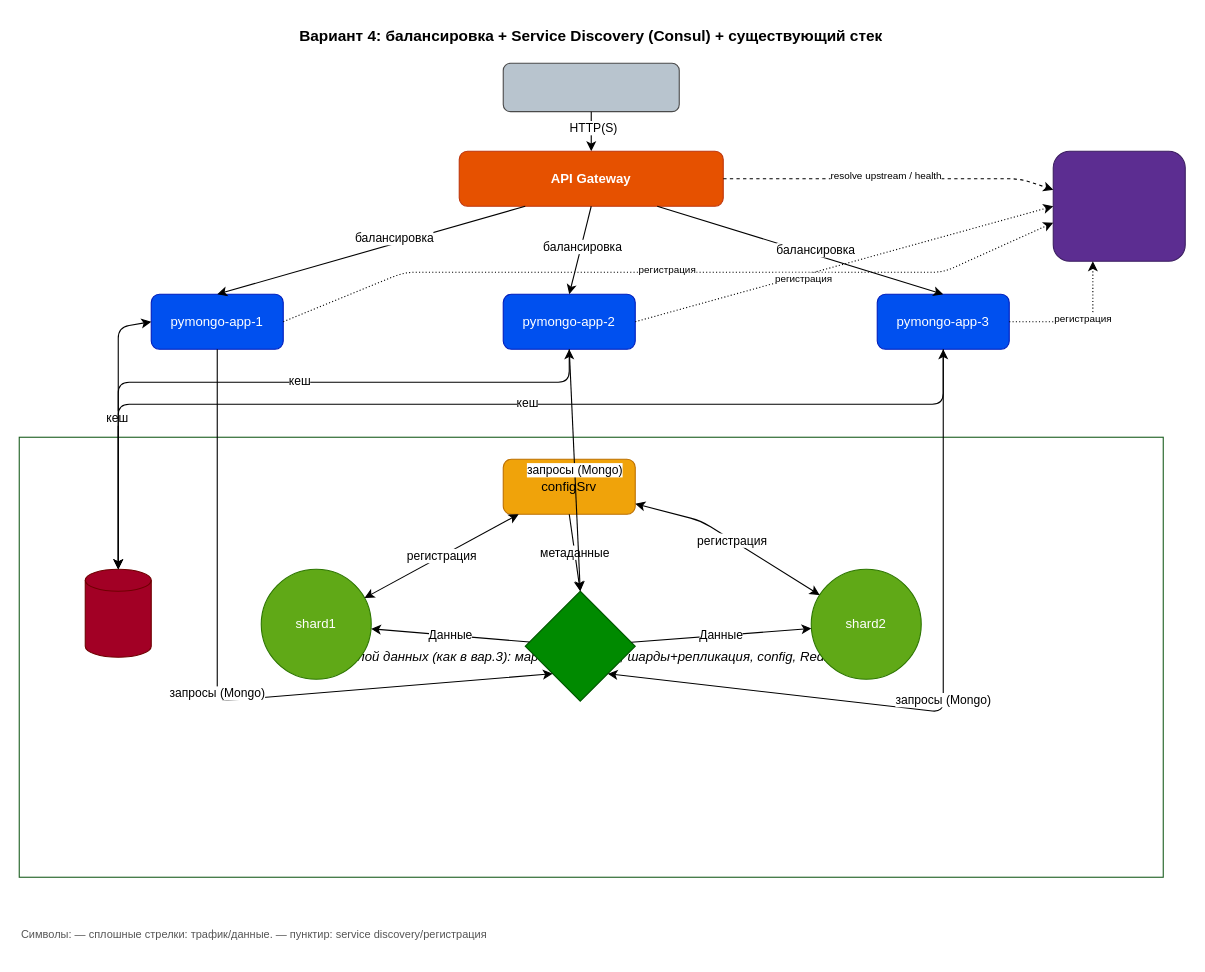
The diagram is 1205 pixels wide and 972 high, and some of its shapes have lost their labels. Here are the shapes that lost their labels. From the top down, the centre of each, then its label:
point (590, 87): Клиенты
point (1118, 205): HashiCorp Consul (Service Discovery)
point (117, 612): Redis (кеш)
point (579, 645): mongos
